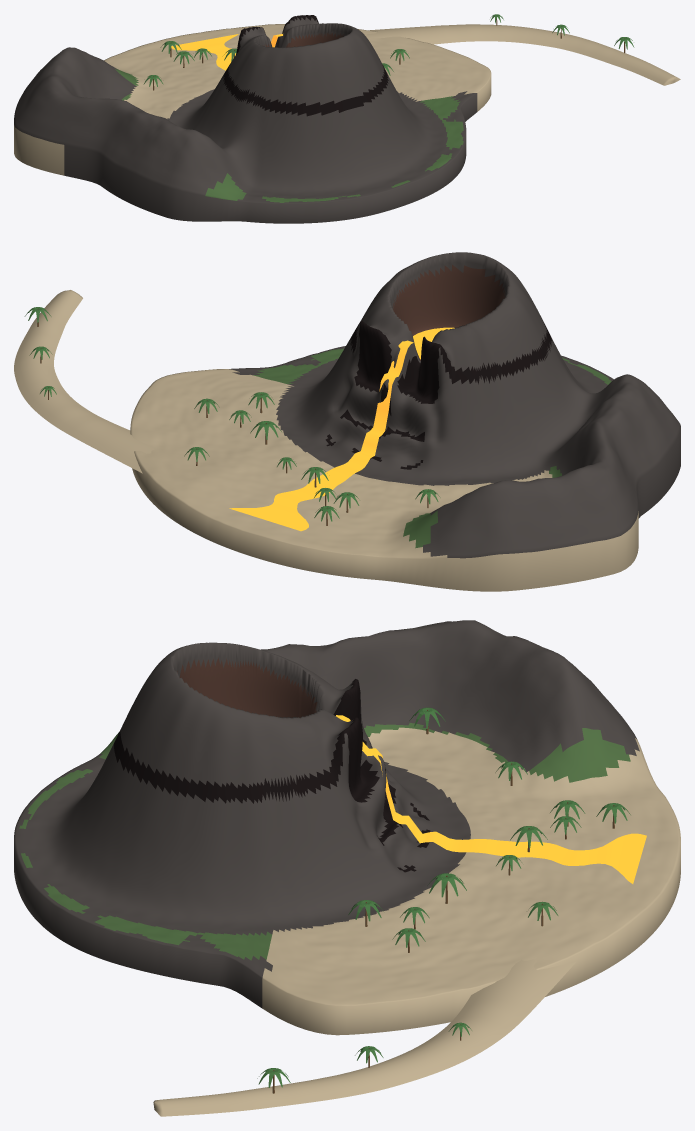
Rendered from skull-island.glb.
3 renders of one model, top to bottom at view 1: azimuth 30°, elevation 25°; view 2: azimuth 150°, elevation 25°; view 3: azimuth 270°, elevation 25°, orthographic. The views are drawn at different scales.
Visible parts, largest first — view 1: Island, Spit, CalderaMawLava; view 2: Island, Spit, CalderaMawLava; view 3: Island, Spit, CalderaMawLava.
Boxes of the visible parts, bbox=[...] form: Island: bbox=[14, 15, 491, 223]; Spit: bbox=[366, 24, 680, 85]; CalderaMawLava: bbox=[171, 34, 282, 70]; Island: bbox=[130, 252, 680, 591]; Spit: bbox=[14, 290, 154, 473]; CalderaMawLava: bbox=[229, 340, 413, 531]; Island: bbox=[14, 620, 680, 1035]; Spit: bbox=[153, 959, 575, 1116]; CalderaMawLava: bbox=[336, 715, 646, 883].
Size of the model in its own units: 259 by 59.27 by 169.
